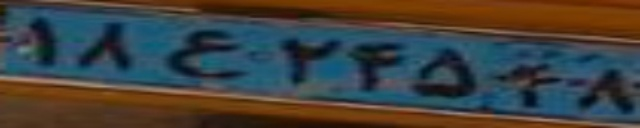2: (276, 37, 340, 86)
4: (348, 41, 405, 93), (503, 60, 563, 107), (30, 15, 59, 66)
5: (408, 45, 476, 99)
8: (77, 20, 138, 71), (575, 68, 634, 114)
ain: (166, 26, 246, 80)
